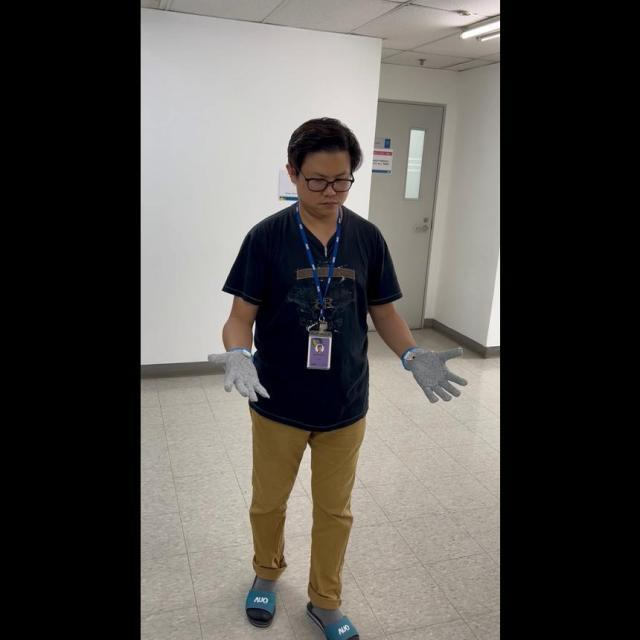gloved_hand: (400, 339, 464, 403), (207, 343, 269, 404)
